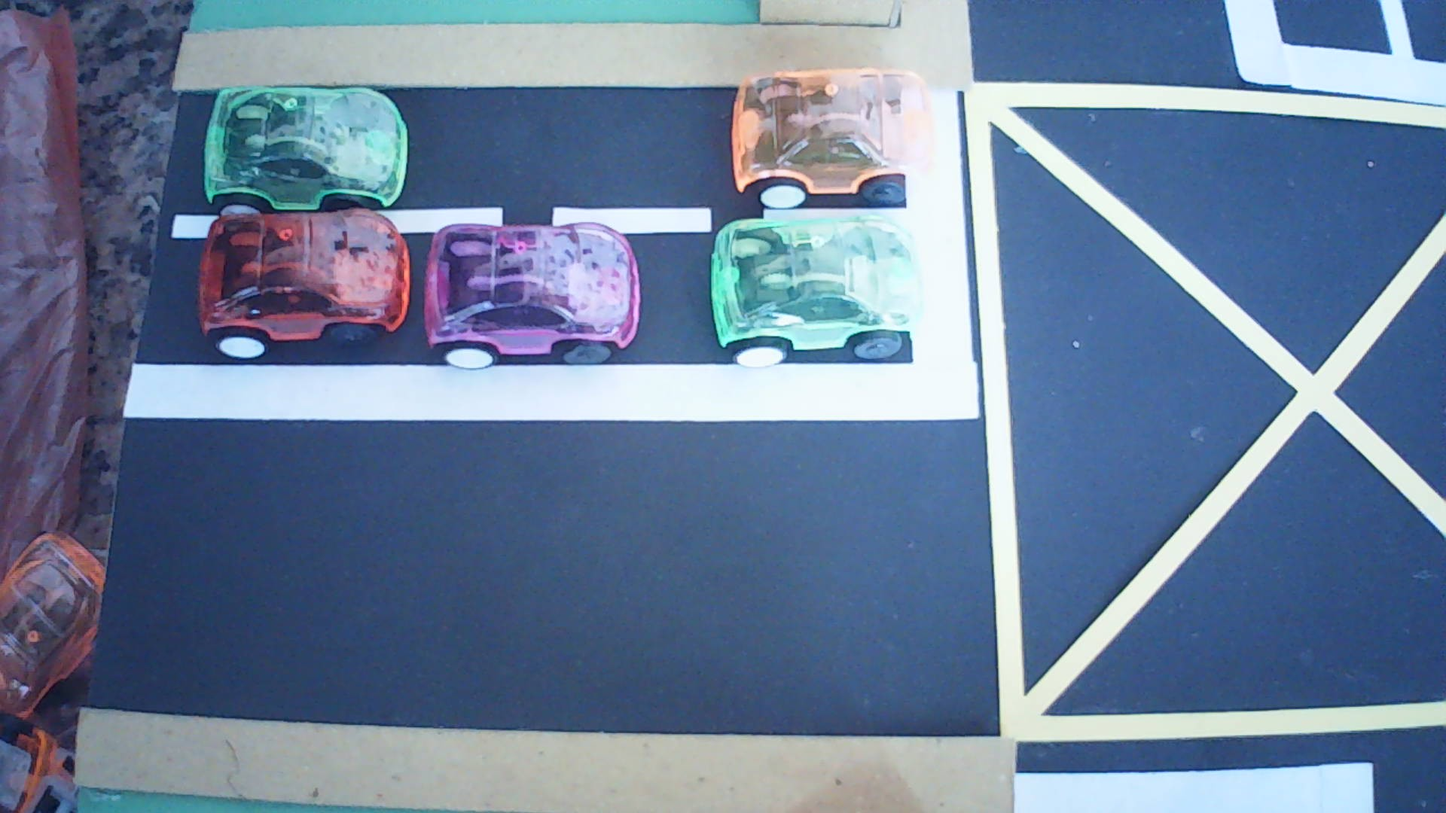Mobil hijau: (710, 215, 922, 367), (204, 87, 408, 214)
Mobil merah: (197, 208, 410, 359)
Mobil orange: (731, 68, 933, 209)
Mobil ungu: (424, 224, 640, 368)
